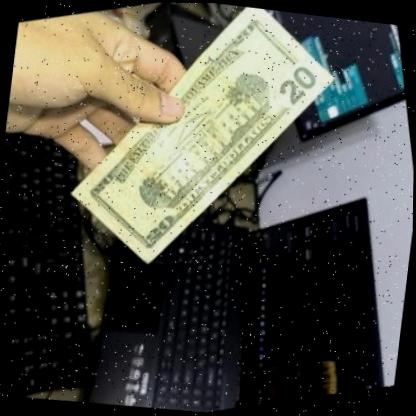twenty-back: (22, 0, 378, 306)
